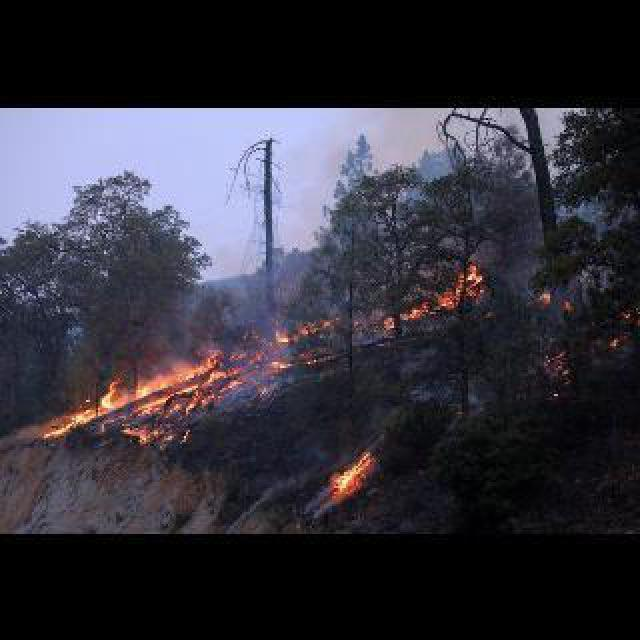Fire: (42, 312, 342, 446), (404, 260, 486, 324), (318, 448, 384, 500)
